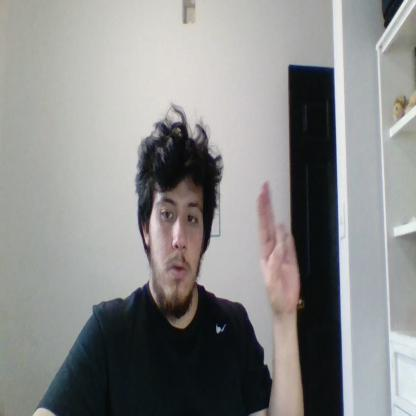U: (258, 180, 300, 315)
